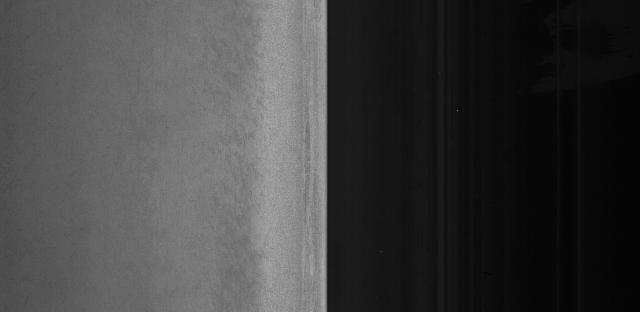silk_spot: (299, 151, 318, 278)
